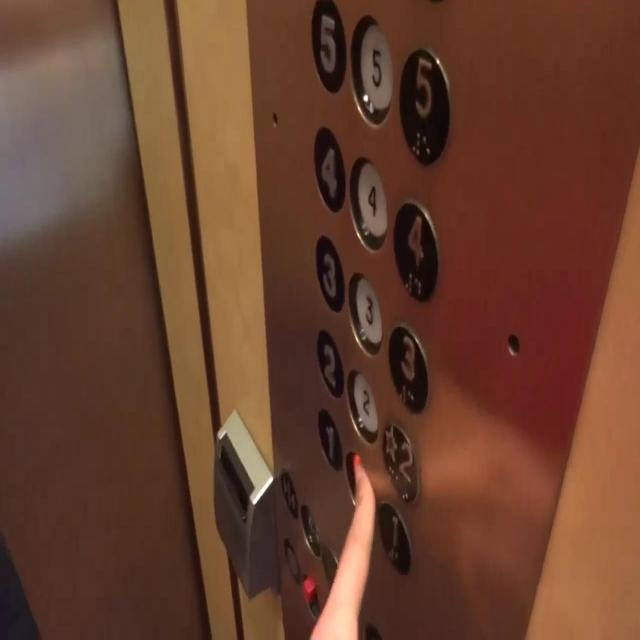1: (376, 497, 412, 578), (316, 406, 342, 472)
2: (380, 420, 414, 498), (346, 367, 378, 449), (315, 329, 343, 398)
3: (387, 323, 428, 413), (347, 271, 382, 357), (313, 235, 345, 312)
4: (393, 202, 438, 298), (347, 158, 387, 252), (312, 126, 345, 212)
5: (398, 50, 450, 166), (348, 13, 393, 130), (308, 0, 347, 93)
blur: (300, 502, 320, 558), (300, 570, 320, 620), (283, 538, 301, 583)
close: (280, 467, 298, 517)
